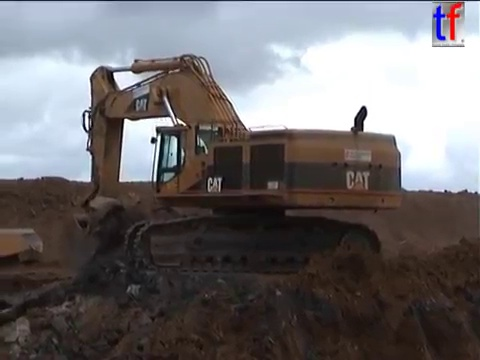excavator: (63, 50, 405, 281)
truck: (1, 223, 46, 261)
